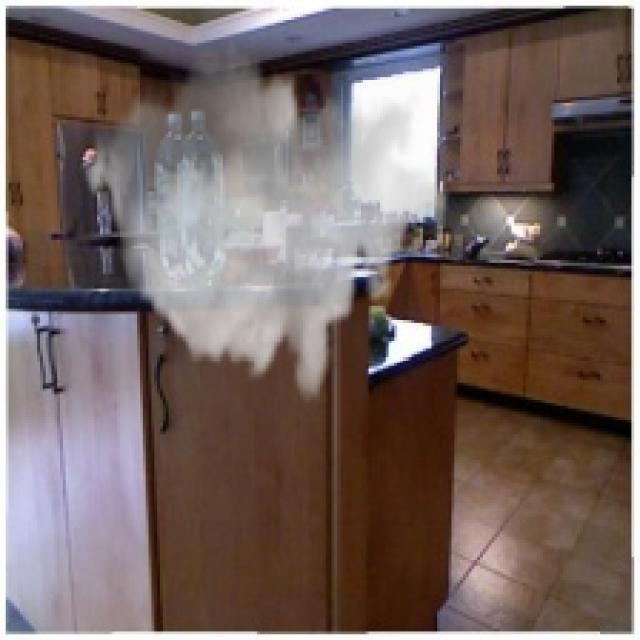Smoke: (80, 31, 449, 403)
